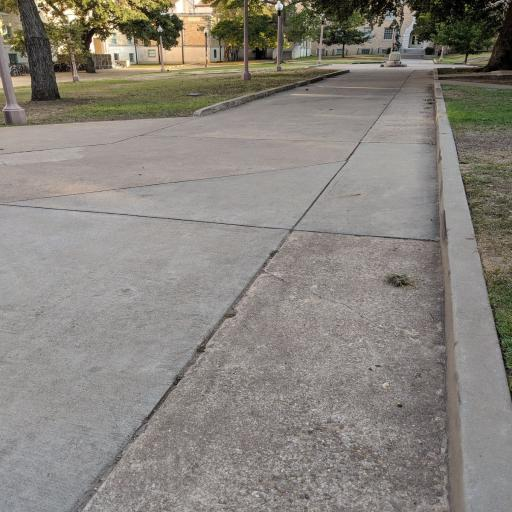construction_fence: (435, 81, 511, 511), (194, 70, 349, 116)
shelf: (0, 66, 447, 511)
